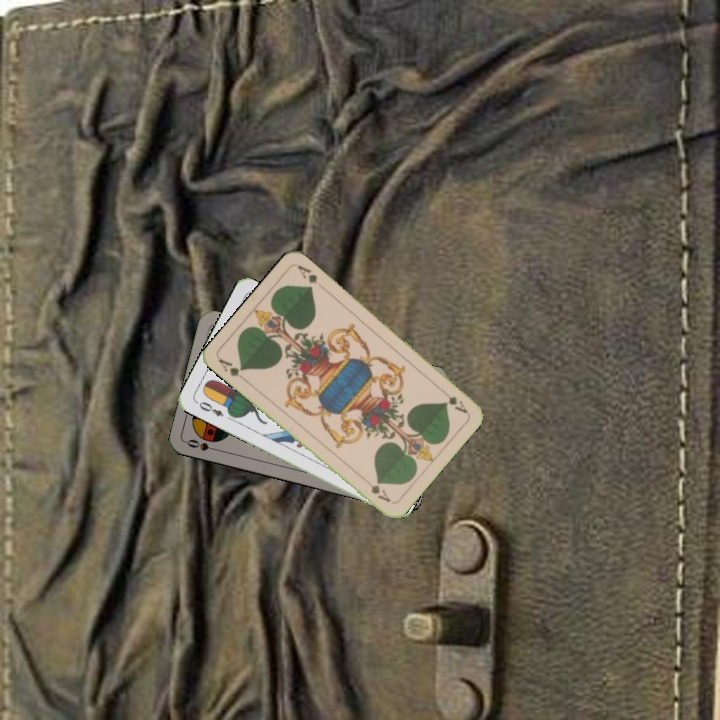EO: (192, 397, 226, 419)
GA: (437, 385, 470, 416), (215, 355, 246, 379)
SO: (183, 435, 223, 454)
